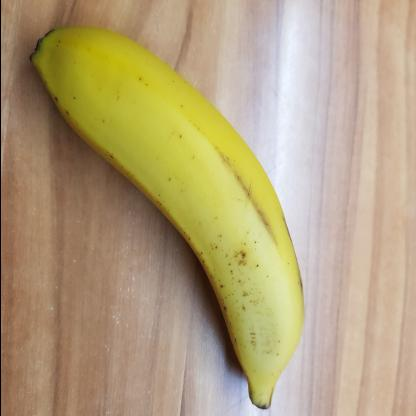banana: (24, 21, 312, 416)
